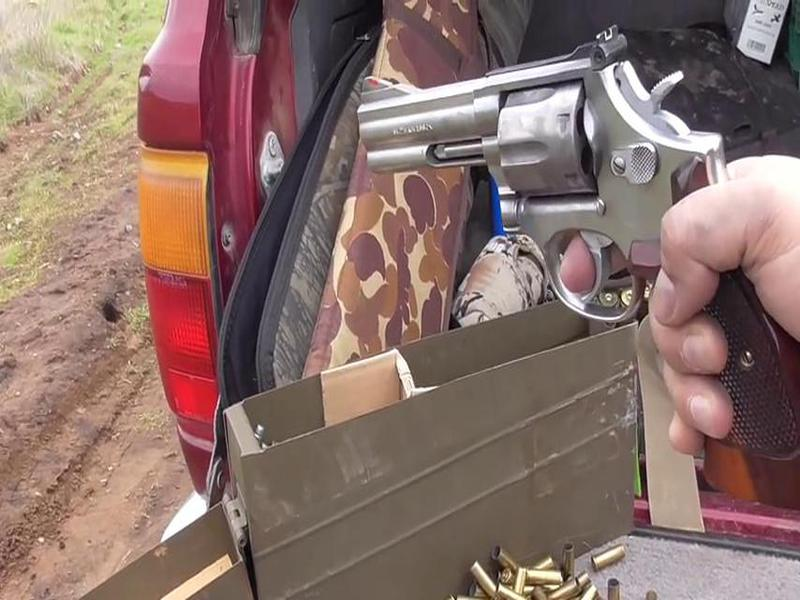Revolver: (359, 31, 755, 437)
